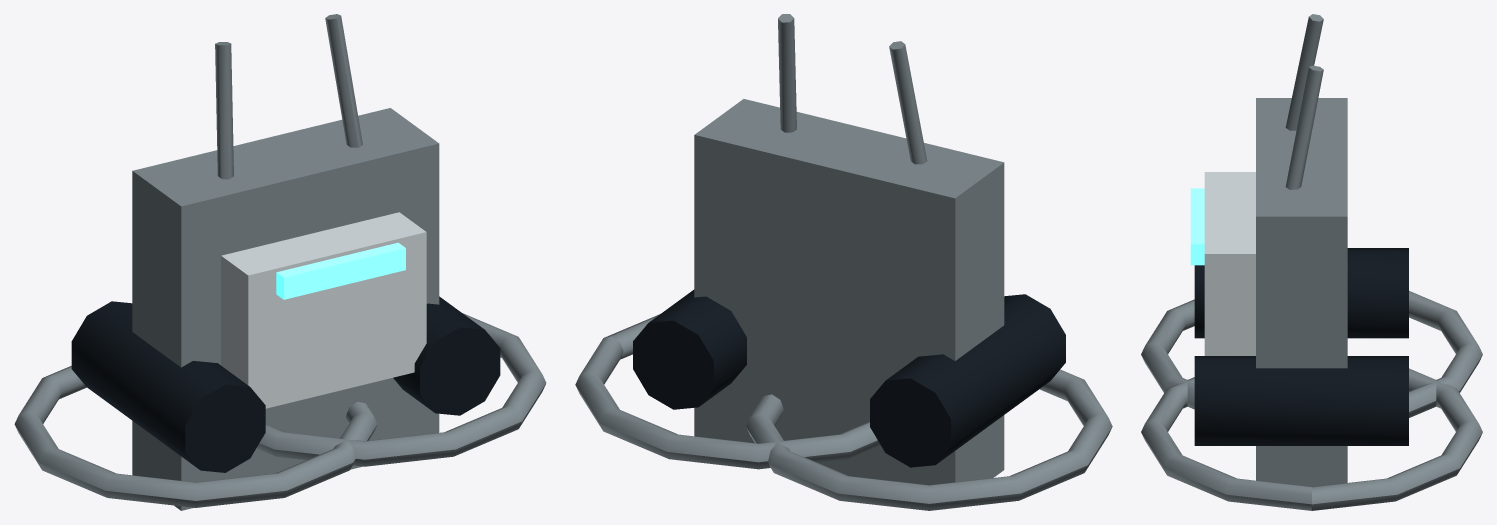
File: SM_CatBackpack.glb
3 views of the same model, side by side, from view 1: azimuth 30°, elevation 25°; view 2: azimuth 150°, elevation 25°; view 3: azimuth 270°, elevation 25° (orthographic). The views are drawn at different scales.
Visible parts, largest first — view 1: Backpack_Main, Backpack_Module, Backpack_CanisterL, Backpack_Strap_-1, Backpack_Strap_1, Backpack_CanisterR, Backpack_Light, Backpack_AntennaL, Backpack_AntennaR; view 2: Backpack_Main, Backpack_CanisterL, Backpack_Strap_-1, Backpack_CanisterR, Backpack_Strap_1, Backpack_AntennaL, Backpack_AntennaR; view 3: Backpack_Main, Backpack_CanisterR, Backpack_Strap_1, Backpack_Module, Backpack_CanisterL, Backpack_Strap_-1, Backpack_AntennaR, Backpack_AntennaL, Backpack_Light.
Part boxes in pixels (bbox=[...]): Backpack_Main: bbox=[132, 108, 439, 510]; Backpack_Module: bbox=[221, 212, 426, 408]; Backpack_CanisterL: bbox=[71, 301, 265, 472]; Backpack_Strap_-1: bbox=[14, 366, 377, 507]; Backpack_Strap_1: bbox=[256, 313, 546, 466]; Backpack_CanisterR: bbox=[393, 296, 500, 415]; Backpack_Light: bbox=[276, 242, 405, 299]; Backpack_AntennaL: bbox=[215, 42, 233, 179]; Backpack_AntennaR: bbox=[325, 14, 362, 147]; Backpack_Main: bbox=[694, 99, 1004, 485]; Backpack_CanisterL: bbox=[870, 294, 1065, 467]; Backpack_Strap_-1: bbox=[746, 369, 1112, 510]; Backpack_CanisterR: bbox=[633, 289, 746, 409]; Backpack_Strap_1: bbox=[575, 314, 880, 469]; Backpack_AntennaL: bbox=[889, 41, 927, 164]; Backpack_AntennaR: bbox=[778, 14, 796, 132]; Backpack_Main: bbox=[1256, 98, 1347, 486]; Backpack_CanisterR: bbox=[1194, 356, 1408, 445]; Backpack_Strap_1: bbox=[1141, 368, 1482, 510]; Backpack_Module: bbox=[1204, 172, 1255, 355]; Backpack_CanisterL: bbox=[1194, 248, 1408, 338]; Backpack_Strap_-1: bbox=[1141, 291, 1482, 417]; Backpack_AntennaR: bbox=[1285, 65, 1323, 189]; Backpack_AntennaL: bbox=[1285, 14, 1323, 130]; Backpack_Light: bbox=[1190, 188, 1204, 265].
Size of the model in its own units: 1.03 by 0.8696 by 0.67.
